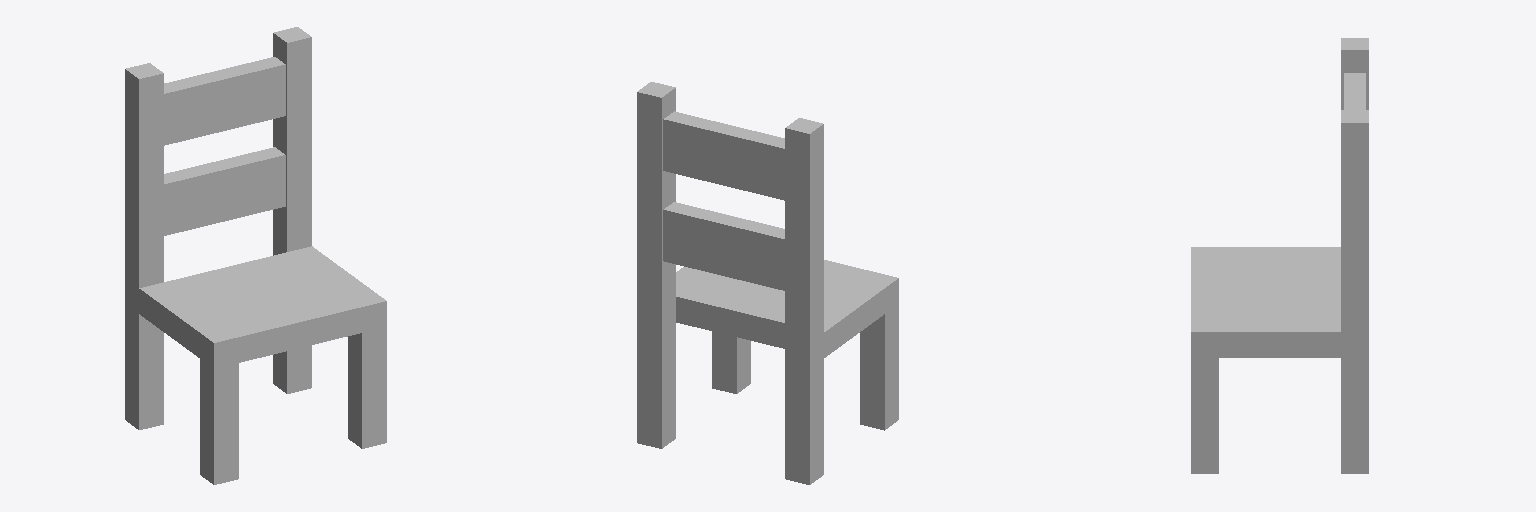
File: chair.obj
3 views of the same model, side by side, from view 1: azimuth 30°, elevation 25°; view 2: azimuth 150°, elevation 25°; view 3: azimuth 270°, elevation 25° (orthographic).
Parts seen in each view (by area): view 1: Cube_Cube.004; view 2: Cube_Cube.004; view 3: Cube_Cube.004.
Part boxes in pixels (bbox=[...]): Cube_Cube.004: bbox=[125, 27, 386, 484]; Cube_Cube.004: bbox=[637, 82, 898, 484]; Cube_Cube.004: bbox=[1191, 38, 1368, 473].
Size of the model in its own units: 2.8 by 5.44 by 2.5.